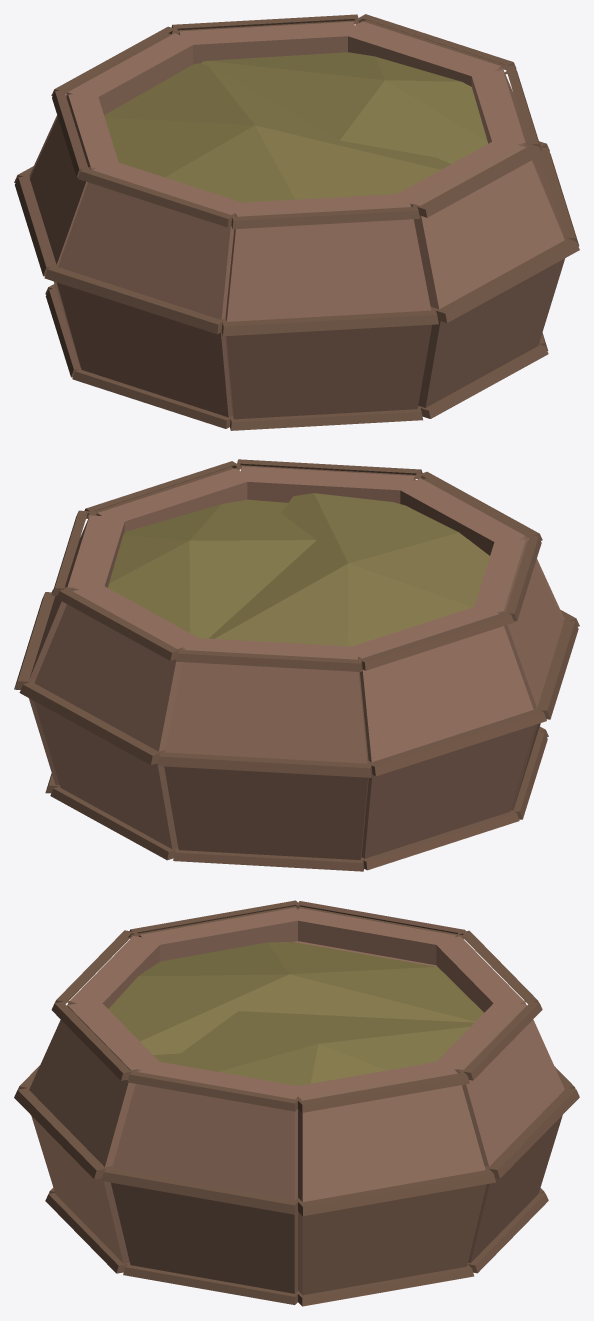
The model's file is barrel-spice-02.obj.
3 renders of one model, top to bottom at view 1: azimuth 30°, elevation 25°; view 2: azimuth 150°, elevation 25°; view 3: azimuth 270°, elevation 25°, orthographic. The views are drawn at different scales.
Parts seen in each view (by area): view 1: barrel-spice-02; view 2: barrel-spice-02; view 3: barrel-spice-02.
Part boxes in pixels (<box>): barrel-spice-02: <box>14,14,579,430</box>; barrel-spice-02: <box>14,459,579,871</box>; barrel-spice-02: <box>14,900,579,1306</box>.
Bounding box in the file's own units: 0.4438 × 0.177 × 0.4448.
